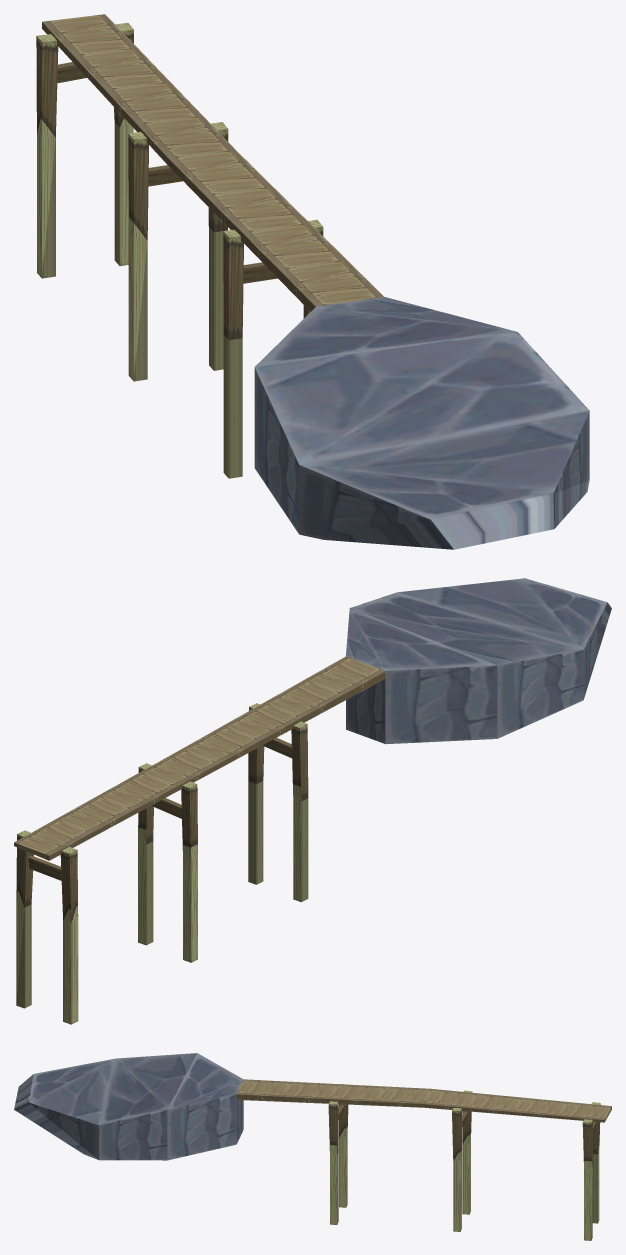
File: Outset Island 1.2 Dock.fbx
3 renders of one model, top to bottom at view 1: azimuth 30°, elevation 25°; view 2: azimuth 150°, elevation 25°; view 3: azimuth 270°, elevation 25°, orthographic. The views are drawn at different scales.
Visible parts, largest first — view 1: Island.007; view 2: Island.007; view 3: Island.007.
Part boxes in pixels (x1,y1,x2,y2): Island.007: [36, 14, 589, 549]; Island.007: [14, 578, 611, 1024]; Island.007: [14, 1053, 611, 1240].
Bounding box in the file's own units: 67862 × 52285 × 230467.
